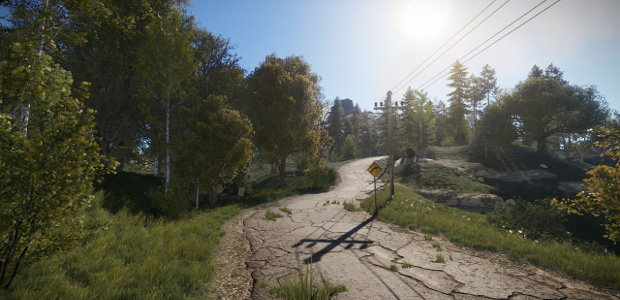tree: (1, 1, 62, 229), (144, 5, 185, 204), (247, 73, 312, 190), (509, 70, 573, 162), (444, 65, 470, 151), (327, 97, 351, 167), (411, 103, 429, 175), (269, 146, 292, 184), (161, 94, 168, 197), (529, 119, 547, 151)
